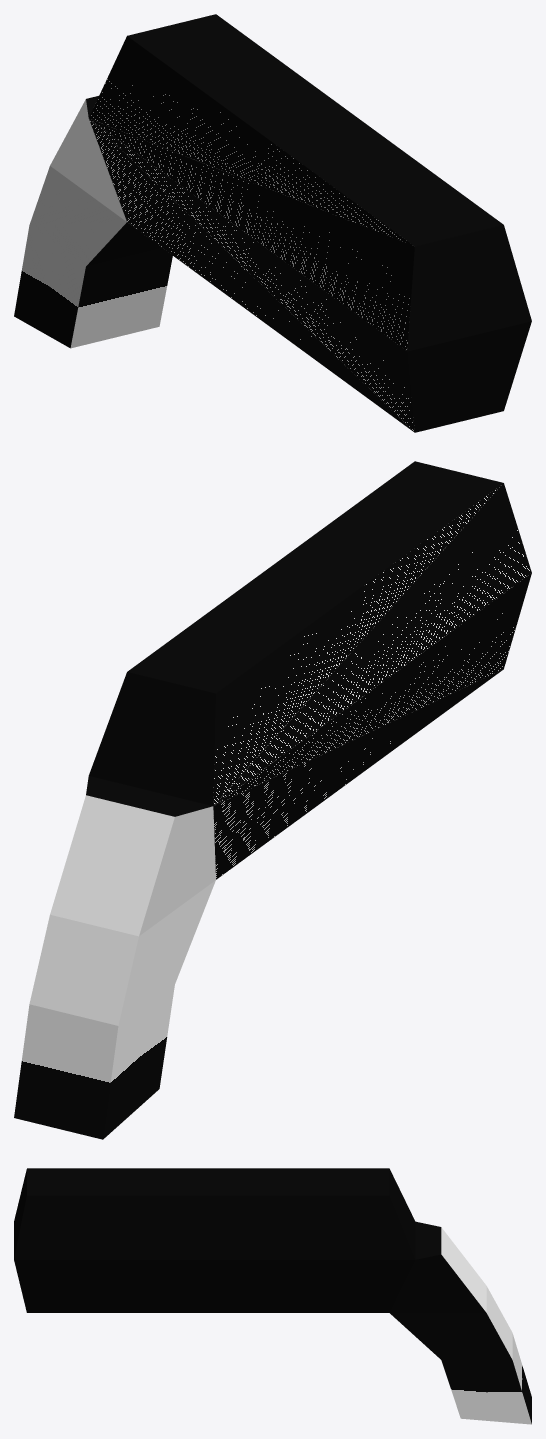
The model's file is wyh_revolver.glb.
3 views of the same model, one above another, from view 1: azimuth 30°, elevation 25°; view 2: azimuth 150°, elevation 25°; view 3: azimuth 270°, elevation 25° (orthographic). The views are drawn at different scales.
Visible parts, largest first — view 1: Revolver; view 2: Revolver; view 3: Revolver.
Boxes of the visible parts, x1=… form: Revolver: x1=14, y1=14, x2=531, y2=432; Revolver: x1=14, y1=461, x2=531, y2=1139; Revolver: x1=14, y1=1168, x2=531, y2=1424.
Bounding box in the file's own units: 0.14 × 0.39 × 0.8.
1 material, 1 textured.
